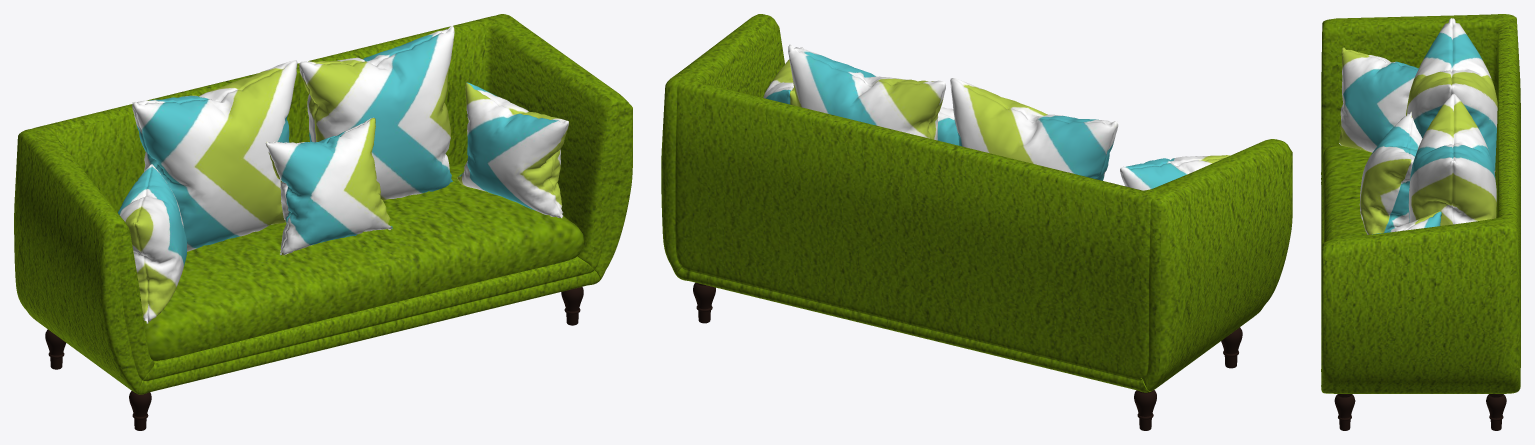
3 renders of one model, left to right at view 1: azimuth 30°, elevation 25°; view 2: azimuth 150°, elevation 25°; view 3: azimuth 270°, elevation 25°, orthographic. The views are drawn at different scales.
Parts seen in each view (by area): view 1: couch, pillow_02_geo, seat, Legs_02_geo; view 2: couch, pillow_02_geo, Legs_02_geo; view 3: couch, pillow_02_geo, seat, Legs_02_geo.
Part boxes in pixels (box(x1,y1,x2,y2)): couch: box(14, 14, 632, 394); pillow_02_geo: box(118, 26, 568, 323); seat: box(144, 162, 583, 360); Legs_02_geo: box(45, 287, 583, 430); couch: box(661, 14, 1292, 392); pillow_02_geo: box(763, 44, 1229, 190); Legs_02_geo: box(693, 282, 1242, 430); couch: box(1321, 14, 1520, 393); pillow_02_geo: box(1339, 18, 1497, 234); seat: box(1322, 145, 1371, 242); Legs_02_geo: box(1334, 394, 1506, 430).
Bounding box in the file's own units: 2.09 × 1.03 × 0.7535.
4 materials, 3 textured.
